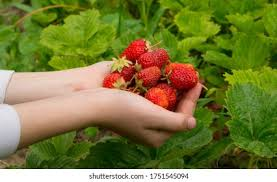ripe: (145, 80, 180, 114), (164, 58, 198, 91), (138, 46, 170, 71), (102, 67, 130, 92), (111, 58, 139, 82), (135, 63, 160, 89), (120, 38, 149, 59)
